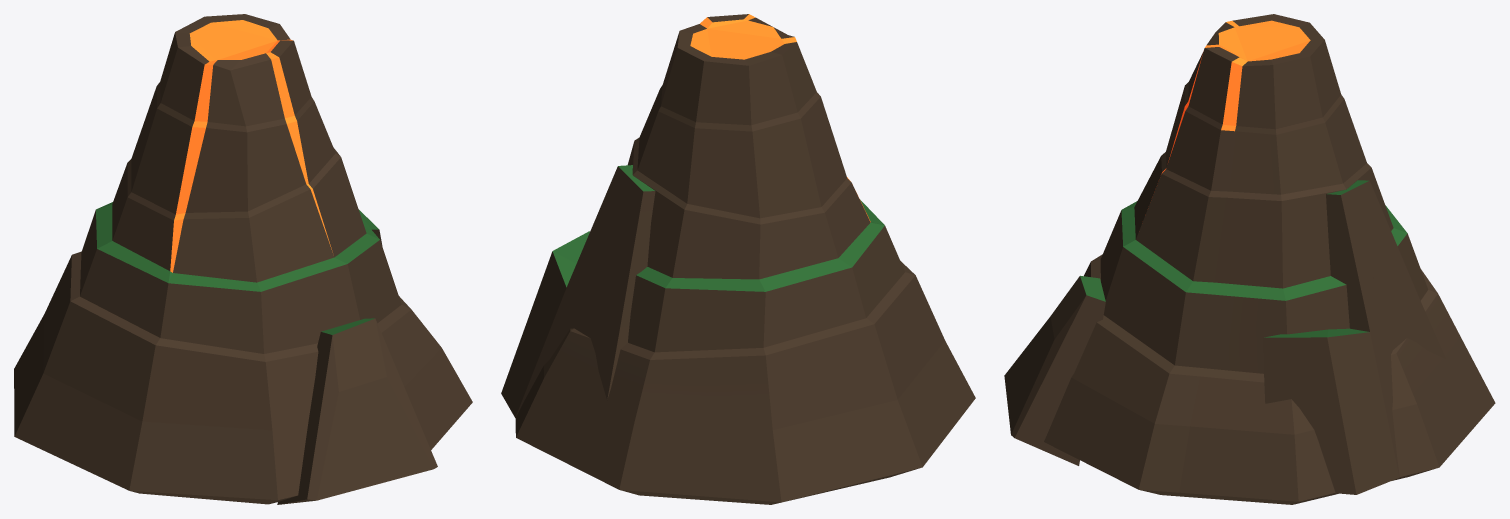
Rendered from terrains_vulcano.fbx.
3 renders of one model, left to right at view 1: azimuth 30°, elevation 25°; view 2: azimuth 150°, elevation 25°; view 3: azimuth 270°, elevation 25°, orthographic.
Parts seen in each view (by area): view 1: terrains_vulcano; view 2: terrains_vulcano; view 3: terrains_vulcano.
Boxes of the visible parts, left/top/right/bottom form: terrains_vulcano: left=14, top=14, right=472, bottom=504; terrains_vulcano: left=501, top=14, right=975, bottom=504; terrains_vulcano: left=1004, top=14, right=1495, bottom=504.
Bounding box in the file's own units: 191 × 174 × 200.
